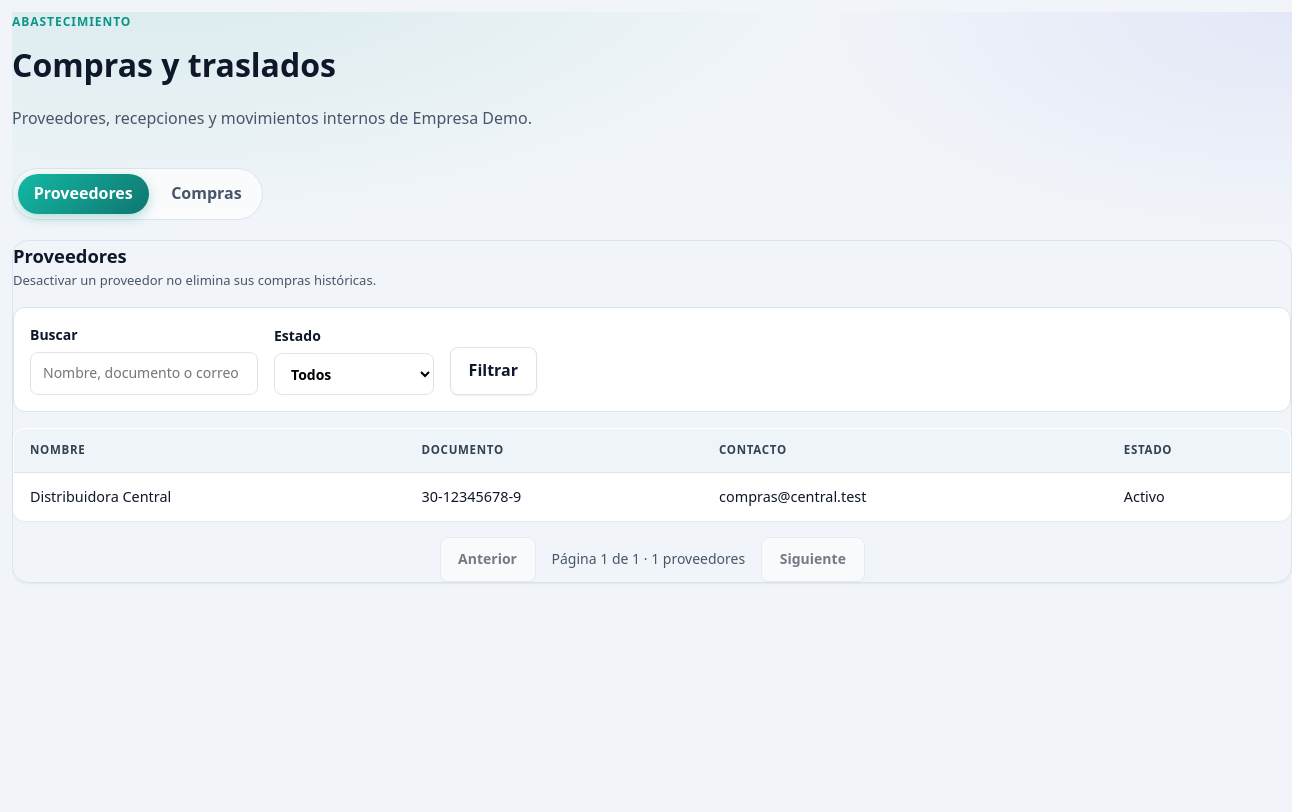
Test: PurchasingPage › abre la pestaña de compras y muestra su estado vacío
Click the button "Compras" at (206, 194), box [155,174,258,214]
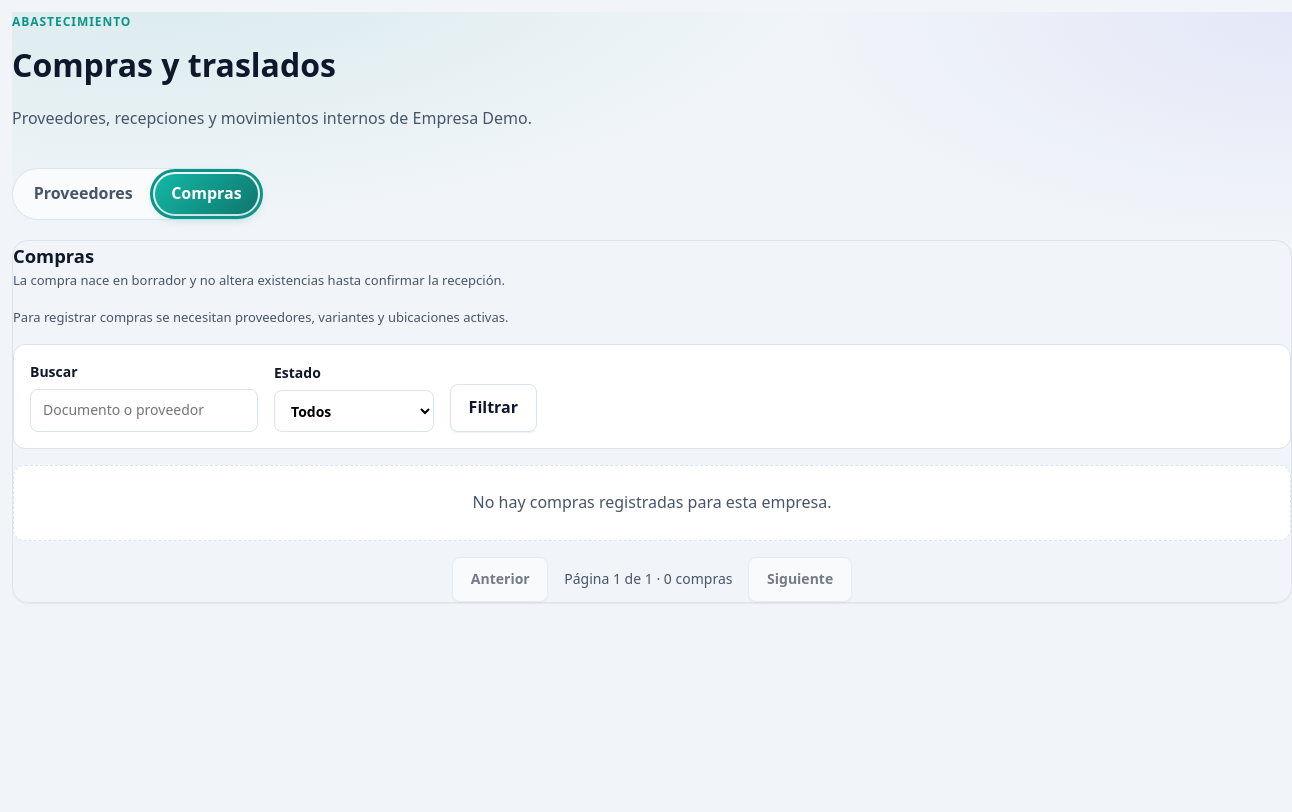
Expected: the text "No hay compras registradas para esta empresa." is shown, [13,465,1291,541]
